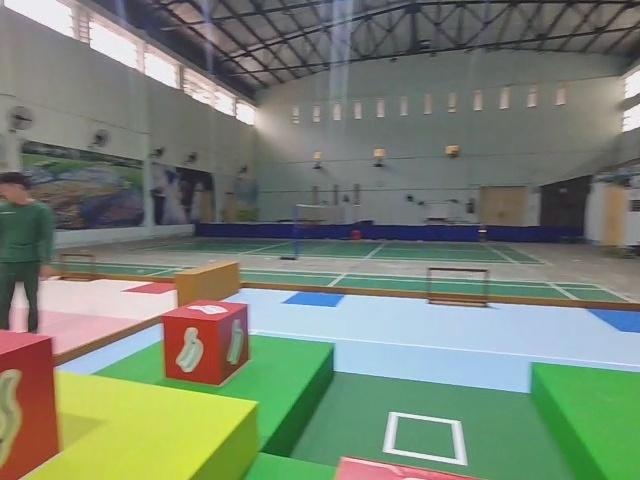R2 Real: (162, 300, 251, 385)
